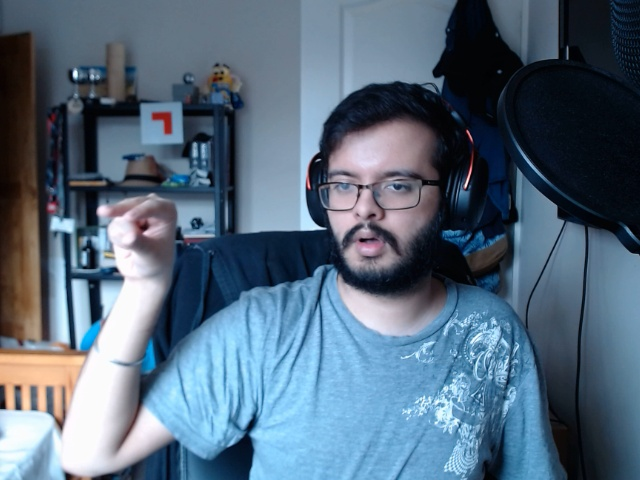No: (83, 177, 191, 285)
